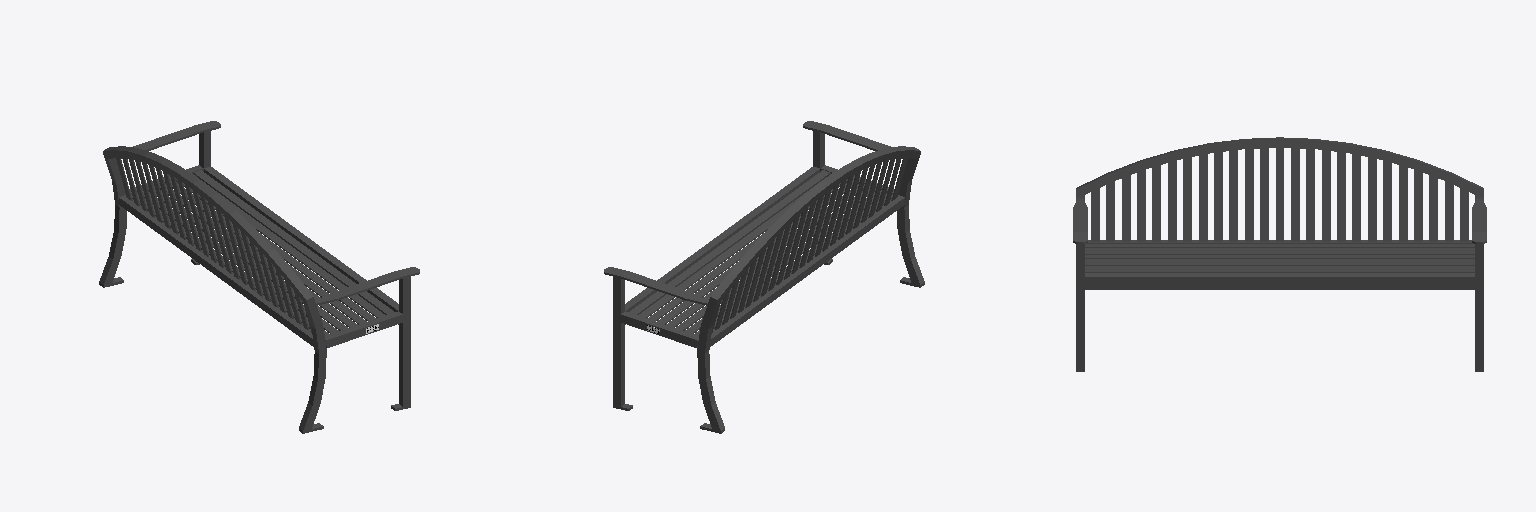
3 views of the same model, side by side, from view 1: azimuth 30°, elevation 25°; view 2: azimuth 150°, elevation 25°; view 3: azimuth 270°, elevation 25° (orthographic).
Parts seen in each view (by area): view 1: mesh5_mesh5-geometry, mesh3_mesh3-geometry, mesh7_mesh7-geometry, mesh6_mesh6-geometry; view 2: mesh5_mesh5-geometry, mesh3_mesh3-geometry, mesh6_mesh6-geometry, mesh7_mesh7-geometry; view 3: mesh5_mesh5-geometry, mesh3_mesh3-geometry.
Part boxes in pixels (left/top/right/bottom): mesh5_mesh5-geometry: left=116, top=121, right=419, bottom=410; mesh3_mesh3-geometry: left=103, top=146, right=313, bottom=301; mesh7_mesh7-geometry: left=299, top=297, right=326, bottom=433; mesh6_mesh6-geometry: left=99, top=153, right=126, bottom=287; mesh5_mesh5-geometry: left=604, top=121, right=907, bottom=410; mesh3_mesh3-geometry: left=710, top=146, right=920, bottom=301; mesh6_mesh6-geometry: left=697, top=297, right=724, bottom=433; mesh7_mesh7-geometry: left=897, top=153, right=924, bottom=287; mesh5_mesh5-geometry: left=1073, top=148, right=1486, bottom=371; mesh3_mesh3-geometry: left=1076, top=137, right=1483, bottom=194.
Size of the model in its own units: 0.3026 by 0.4121 by 0.8594.
Materials: 2 (1 with a texture image).